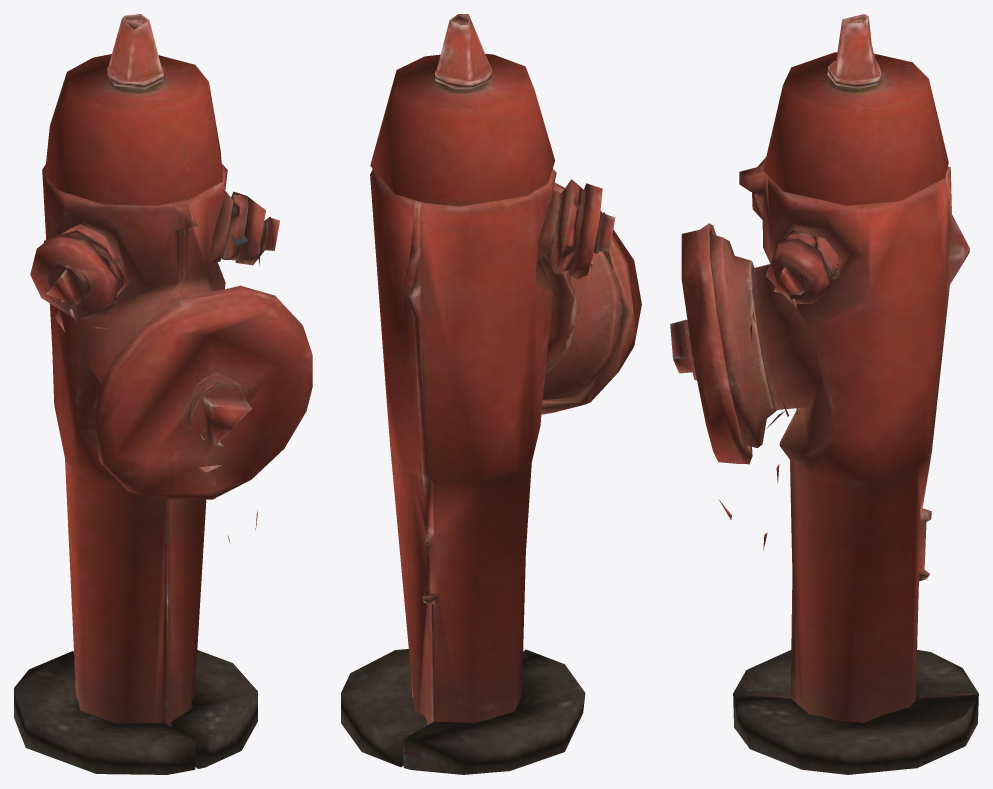
The model's file is fire_hydrant.glb.
3 renders of one model, left to right at view 1: azimuth 30°, elevation 25°; view 2: azimuth 150°, elevation 25°; view 3: azimuth 270°, elevation 25°, orthographic.
Visible parts, largest first — view 1: fire_hydrant; view 2: fire_hydrant; view 3: fire_hydrant.
Part boxes in pixels (left/top/right/bottom): fire_hydrant: left=14, top=14, right=312, bottom=774; fire_hydrant: left=341, top=14, right=641, bottom=774; fire_hydrant: left=670, top=14, right=978, bottom=774.
Bounding box in the file's own units: 0.2728 × 0.7992 × 0.3173.
1 material, 1 textured.
